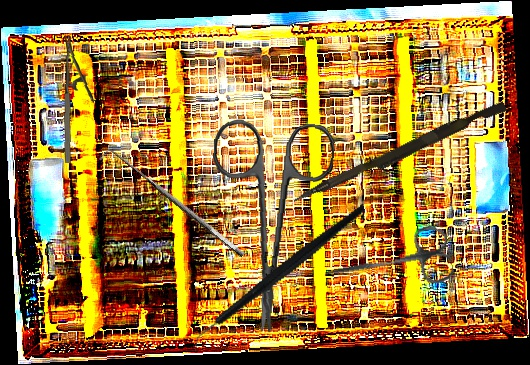Chopper: (167, 201, 392, 357)
Hook Surgical: (98, 142, 247, 268)
Iris Scissors: (201, 117, 336, 337), (319, 222, 456, 305)
Needle Holder: (60, 34, 97, 164)
Pusher: (291, 95, 508, 212)
